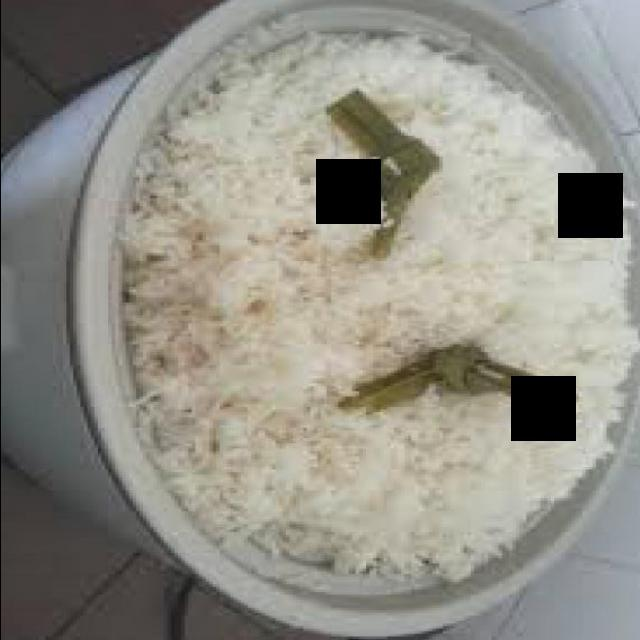rice: (117, 32, 640, 584)
